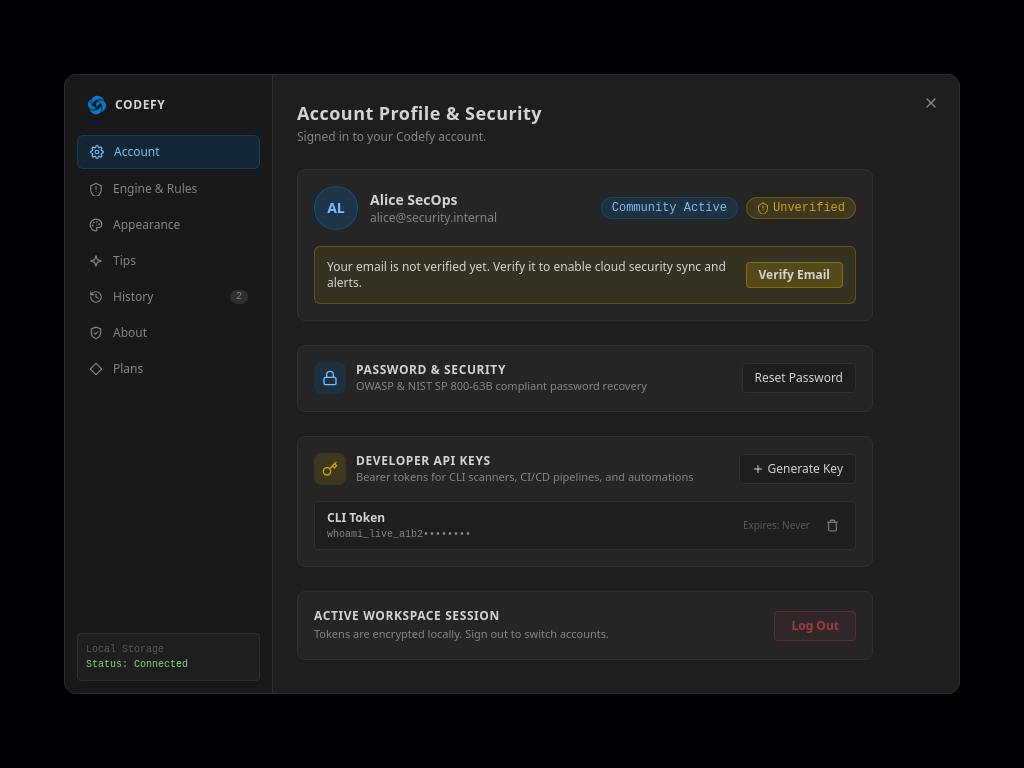
SettingsHistoryModal › account security features › lists and generates developer API keys
Expected: the text "CLI Token" is shown, [327,509,385,526]
Click the button "Generate Key" at (797, 469), box [739,454,856,484]
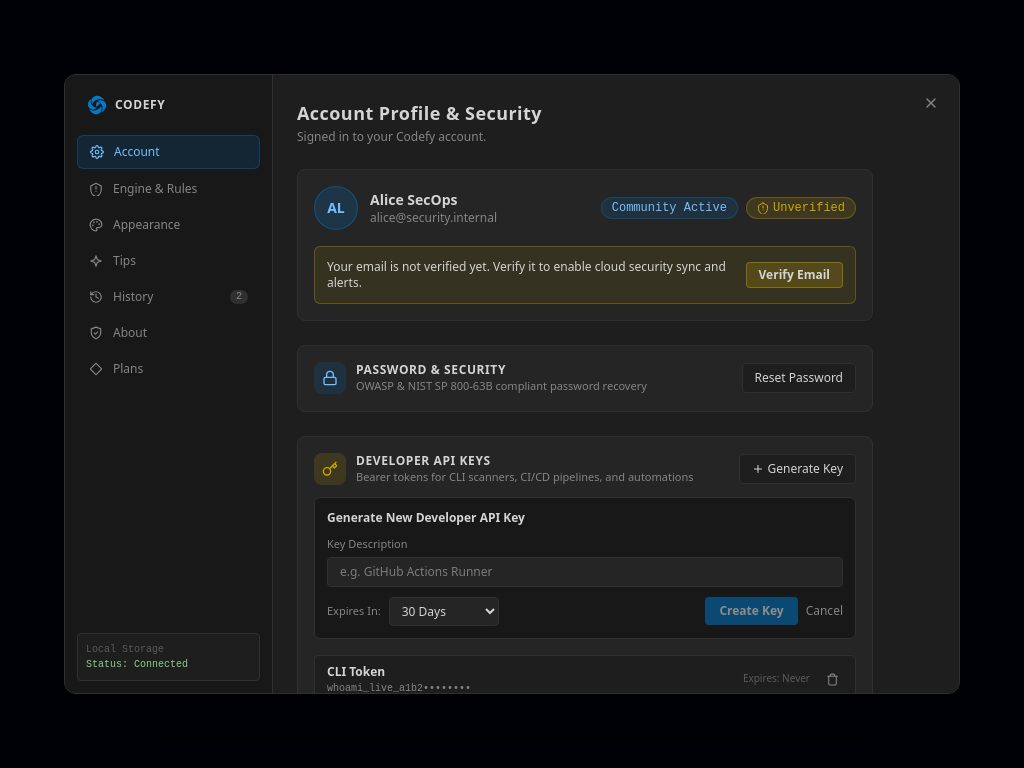
Type "CI Key" into the field with placeholder "e.g. GitHub Actions Runner" at (585, 572), box [327,556,843,586]
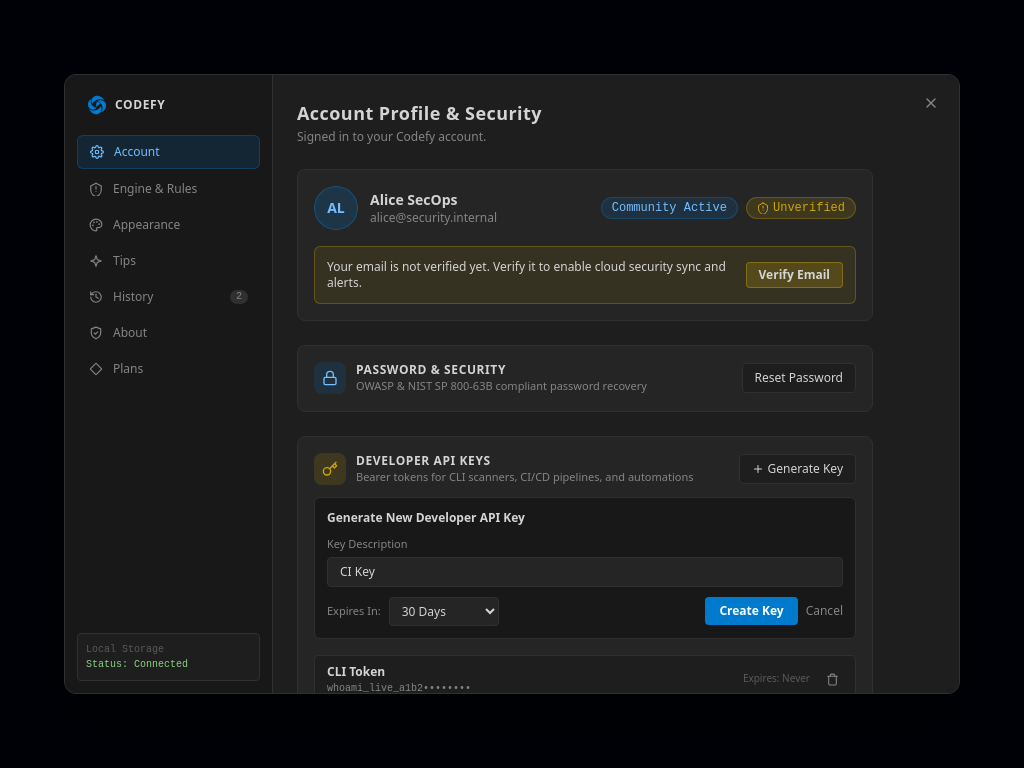
Click the button "Create Key" at (752, 611), box [705,597,798,625]
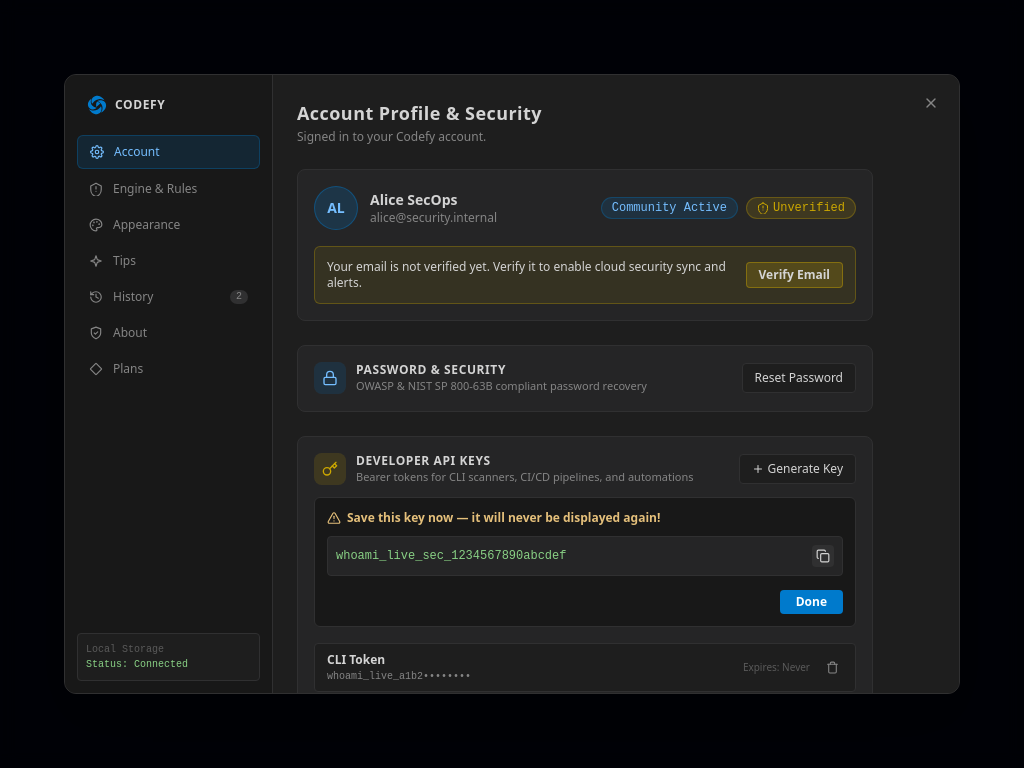
Expected: the text "whoami_live_sec_1234567890abcdef" is shown, [336,549,566,563]
